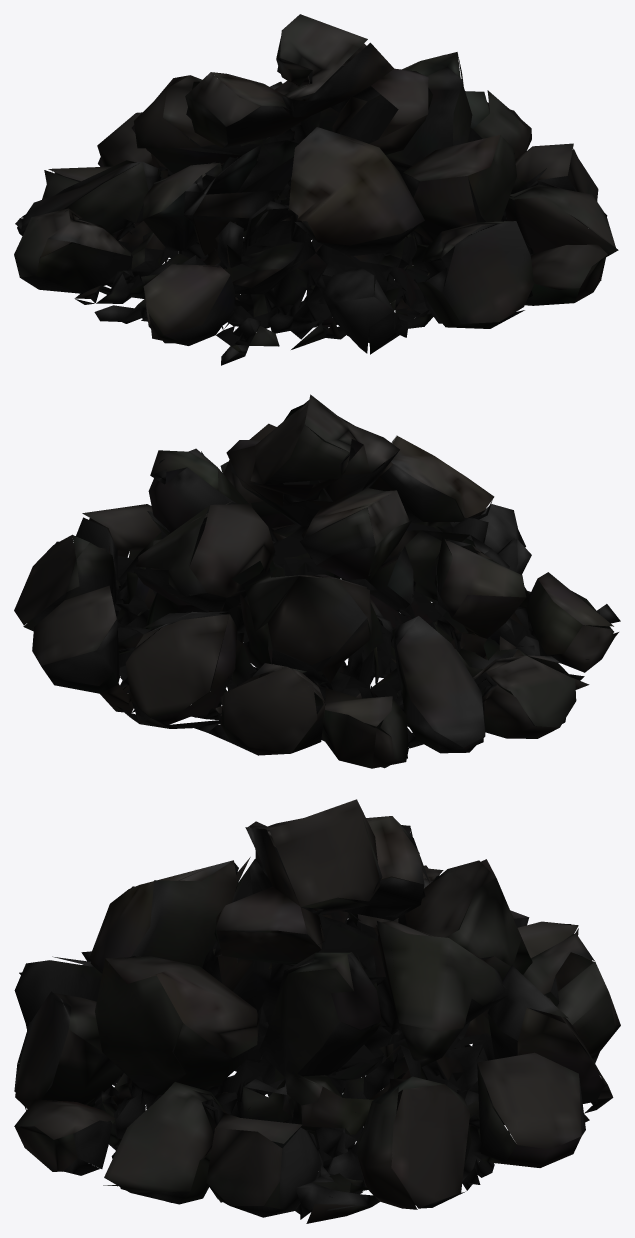
The model's file is carbon.movil.glb.
The picture shows the model from 3 angles, top to bottom: view 1: azimuth 30°, elevation 25°; view 2: azimuth 150°, elevation 25°; view 3: azimuth 270°, elevation 25°; orthographic projection. The views are drawn at different scales.
Parts seen in each view (by area): view 1: geometry_0; view 2: geometry_0; view 3: geometry_0.
Boxes of the visible parts, left/top/right/bottom form: geometry_0: left=14, top=14, right=618, bottom=365; geometry_0: left=14, top=394, right=620, bottom=768; geometry_0: left=14, top=799, right=620, bottom=1223.
Bounding box in the file's own units: 1.2 × 0.509 × 1.
1 material, 1 textured.
